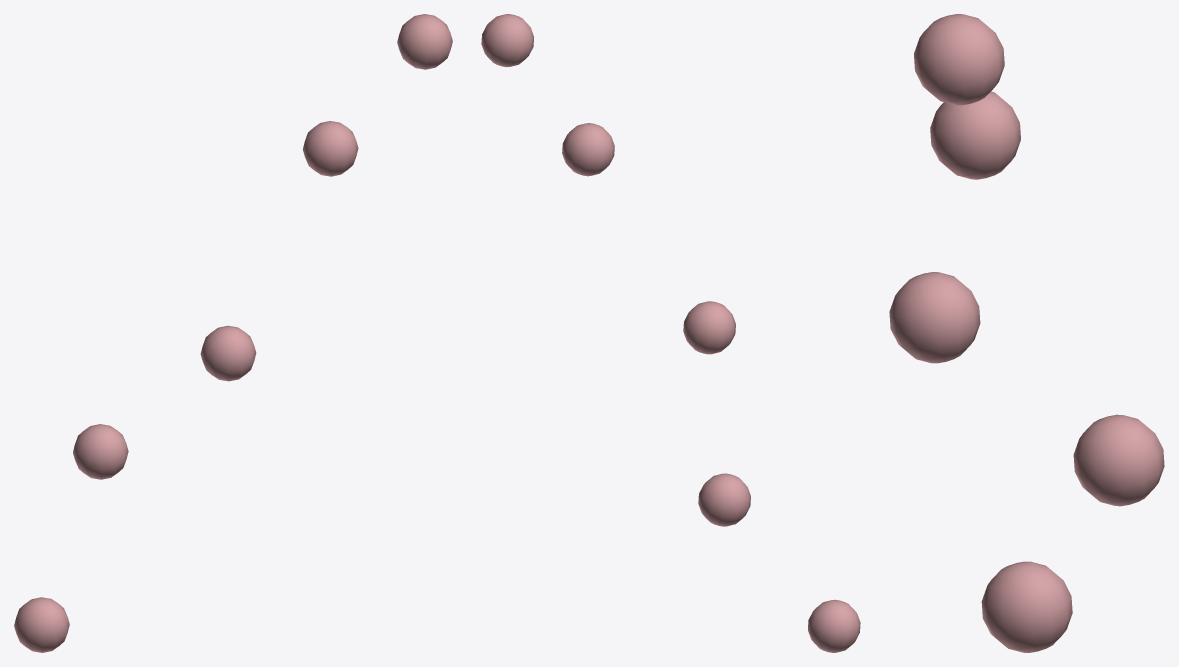
3 renders of one model, left to right at view 1: azimuth 30°, elevation 25°; view 2: azimuth 150°, elevation 25°; view 3: azimuth 270°, elevation 25°, orthographic. The views are drawn at different scales.
Parts seen in each view (by area): view 1: ZA_0ac2dfc1e3550899; view 2: ZA_0ac2dfc1e3550899; view 3: ZA_0ac2dfc1e3550899.
Part boxes in pixels (bbox=[...]): ZA_0ac2dfc1e3550899: bbox=[14, 14, 452, 652]; ZA_0ac2dfc1e3550899: bbox=[481, 14, 860, 652]; ZA_0ac2dfc1e3550899: bbox=[889, 14, 1164, 652].
Bounding box in the file's own units: 0.0221 × 0.0288 × 0.00779.
